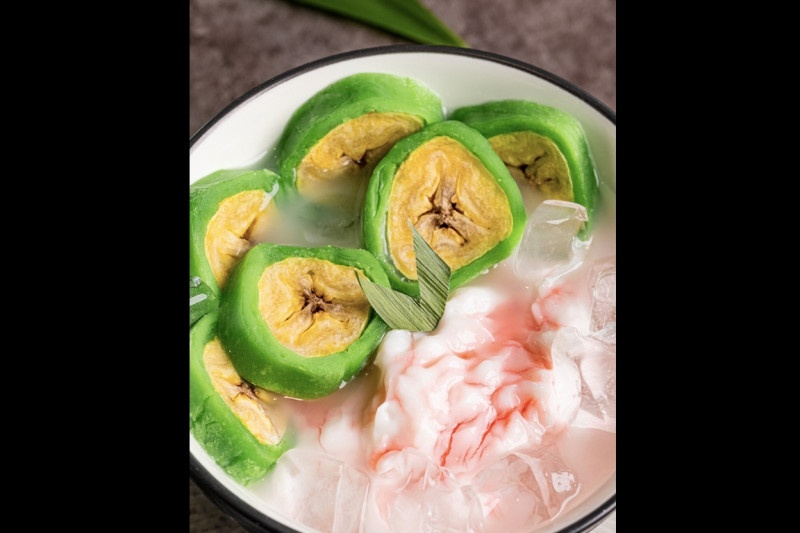pisang_ijo: (216, 242, 392, 394)
